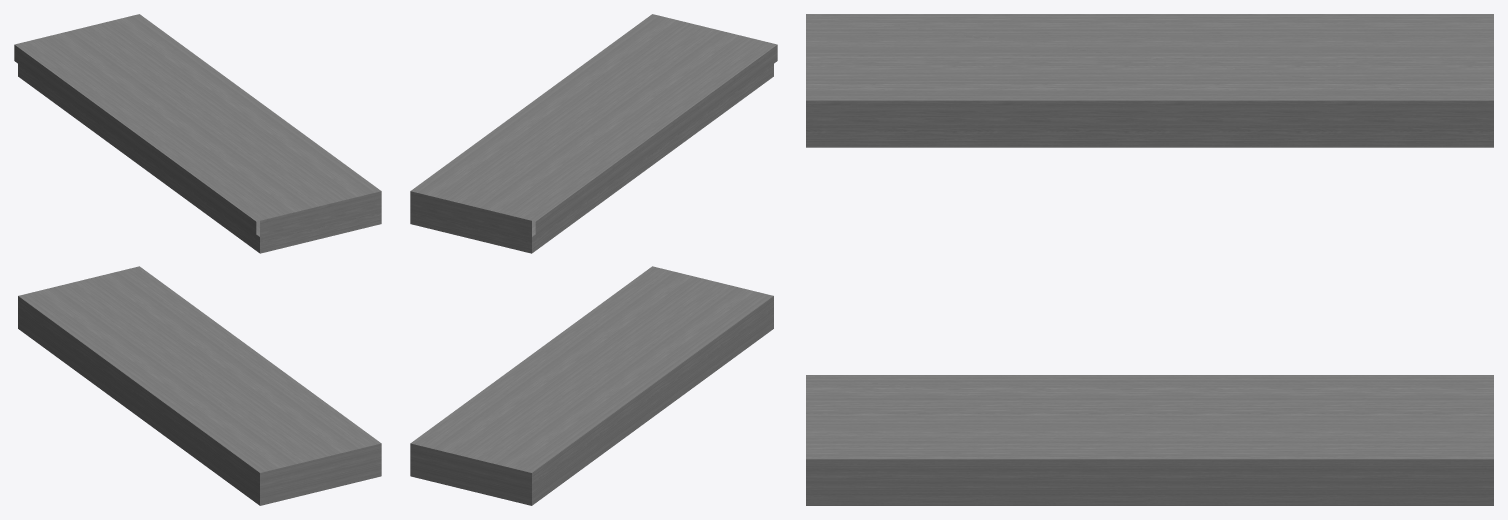
The picture shows the model from 3 angles, left to right: view 1: azimuth 30°, elevation 25°; view 2: azimuth 150°, elevation 25°; view 3: azimuth 270°, elevation 25°; orthographic projection. The views are drawn at different scales.
Parts seen in each view (by area): view 1: Mesh1_Natuzzi_Zelig_W010_37_4_Model.001; view 2: Mesh1_Natuzzi_Zelig_W010_37_4_Model.001; view 3: Mesh1_Natuzzi_Zelig_W010_37_4_Model.001.
Boxes of the visible parts, x1,y1,x2,y2 form: Mesh1_Natuzzi_Zelig_W010_37_4_Model.001: (14,14,381,505); Mesh1_Natuzzi_Zelig_W010_37_4_Model.001: (410,14,777,505); Mesh1_Natuzzi_Zelig_W010_37_4_Model.001: (806,14,1493,505).
Size of the model in its own units: 0.3 by 0.6528 by 1.
Materials: 1 (1 with a texture image).
